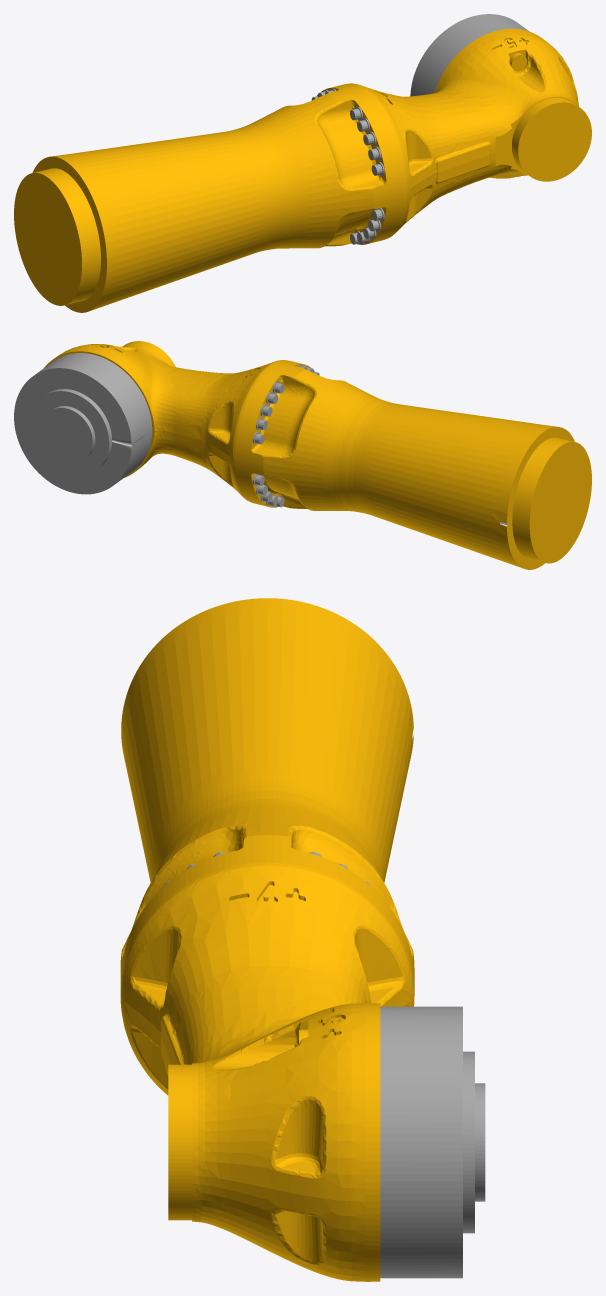
3 views of the same model, one above another, from view 1: azimuth 30°, elevation 25°; view 2: azimuth 150°, elevation 25°; view 3: azimuth 270°, elevation 25° (orthographic). The views are drawn at different scales.
Parts seen in each view (by area): view 1: A4.001; view 2: A4.001; view 3: A4.001.
Boxes of the visible parts, box(x1,y1,x2,y2) form: A4.001: box(14, 14, 591, 312); A4.001: box(14, 341, 591, 569); A4.001: box(120, 598, 485, 1281).
Size of the model in its own units: 15.45 by 12.45 by 48.85.
